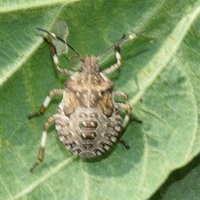insect: (28, 22, 140, 171)
